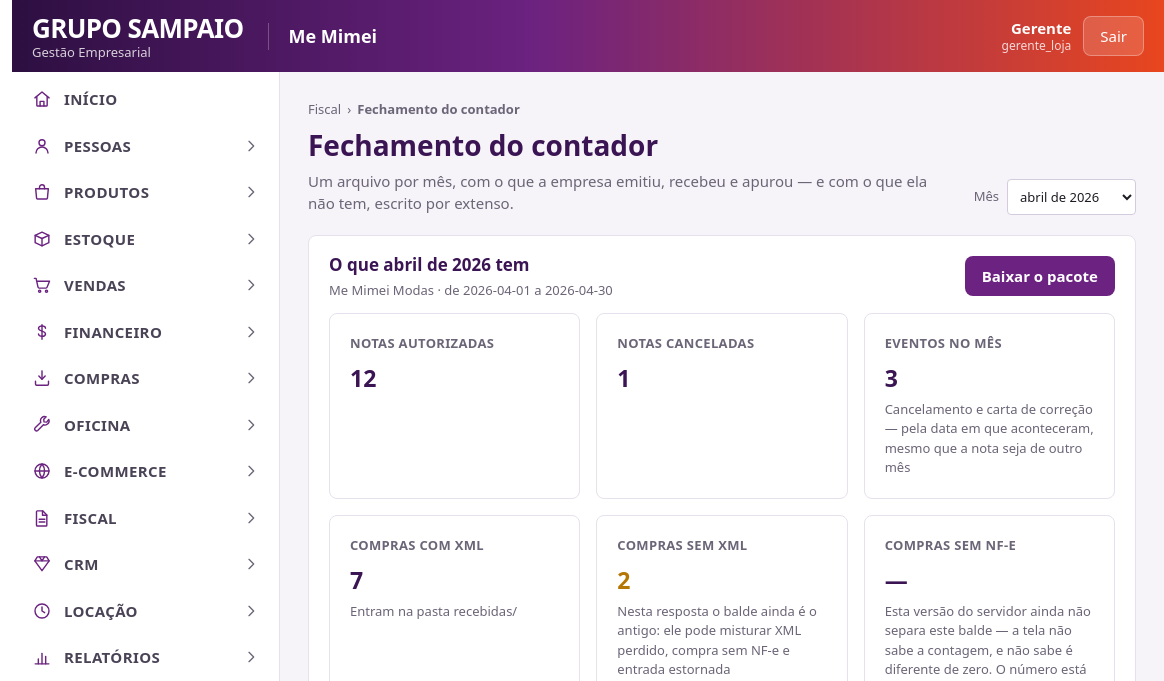
Test: o download › o 413 chega à tela COM o número medido pelo servidor
Expected: the heading "O que abril de 2026 tem" is shown, [329,252,530,276]
What coordinates should you click on to do the following:
click the button "Baixar o pacote"
I would click on:
 (1040, 276)
Its box is [965,256,1115,296].
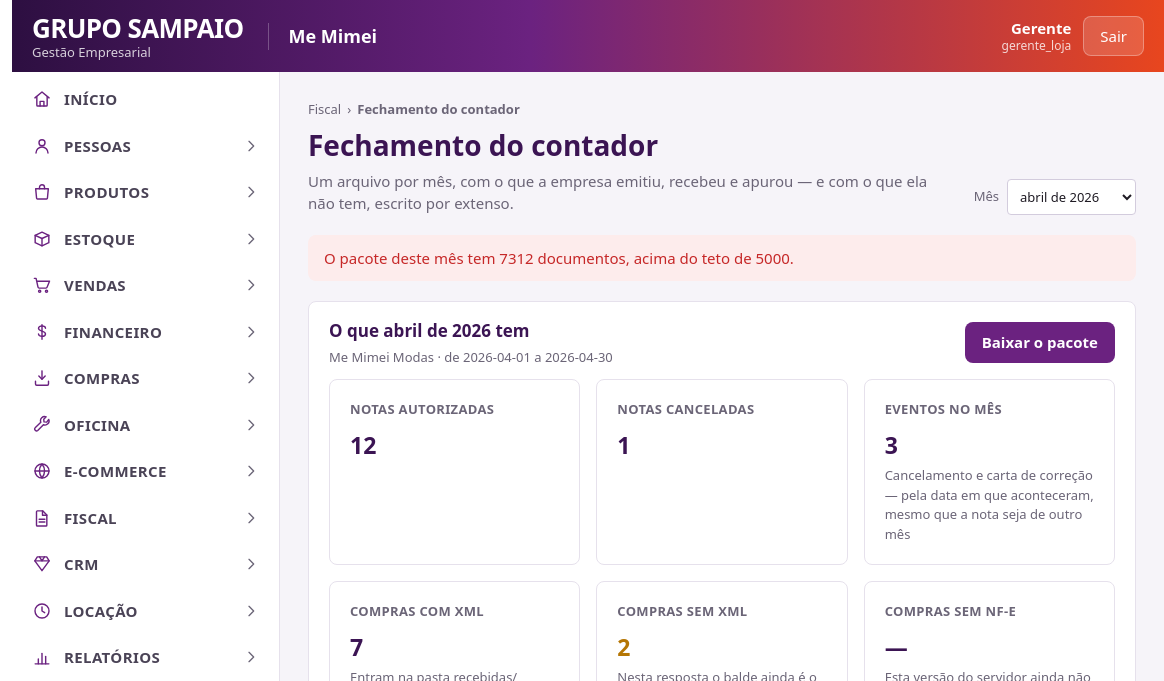
Result: the text "O pacote deste mês tem 7312 documentos, acima do teto de 5000." is shown at [308,234,1136,281]
